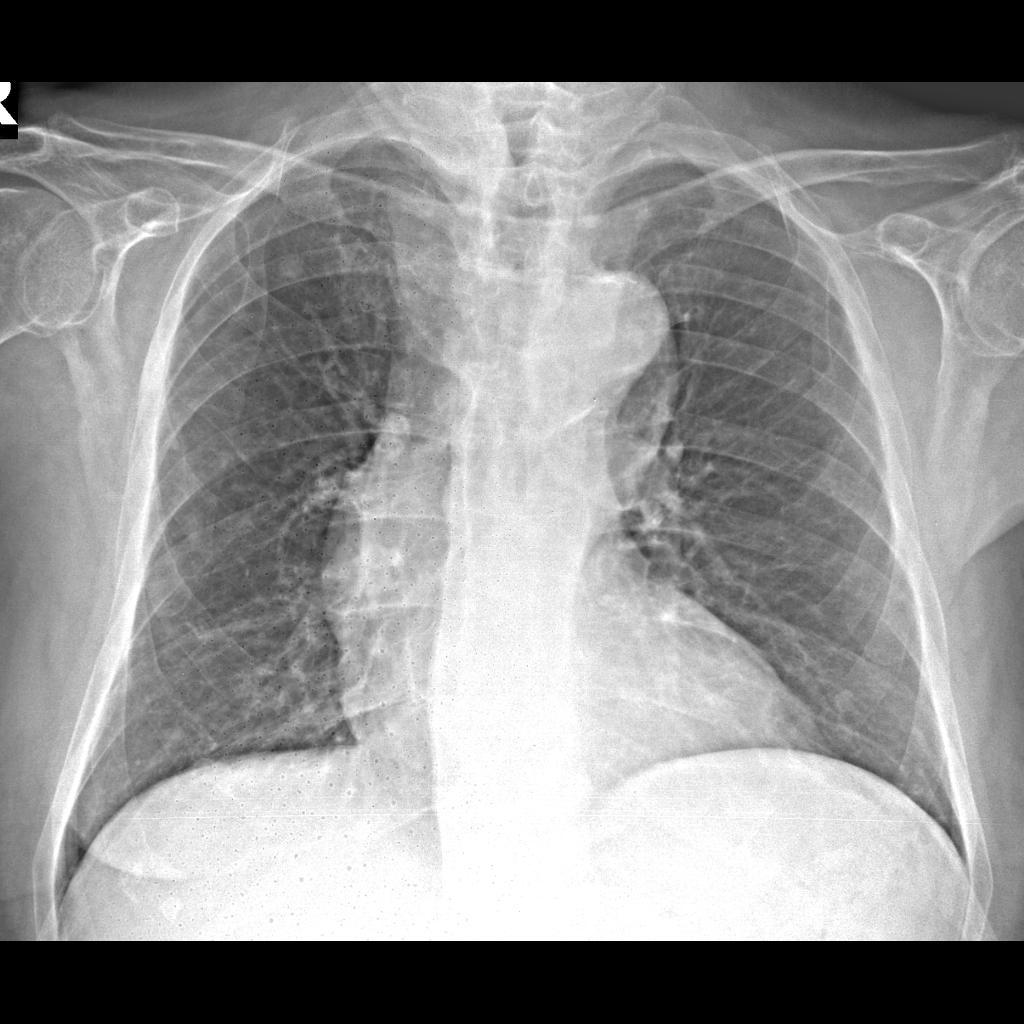Nodule: (274, 245, 312, 286)
